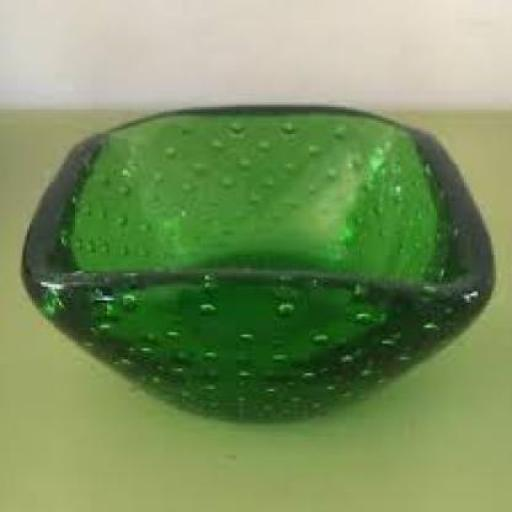glass: (18, 100, 494, 421)
